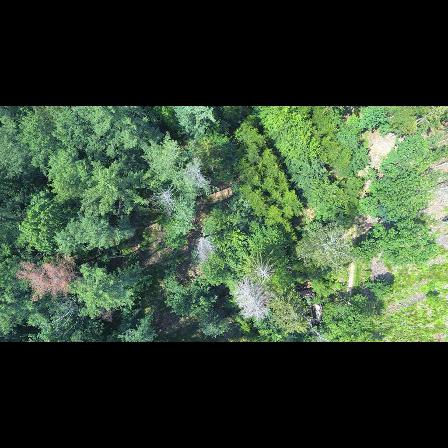Dead: (229, 277, 270, 322), (148, 187, 179, 218), (190, 232, 217, 267)
Sick: (251, 261, 274, 282)
